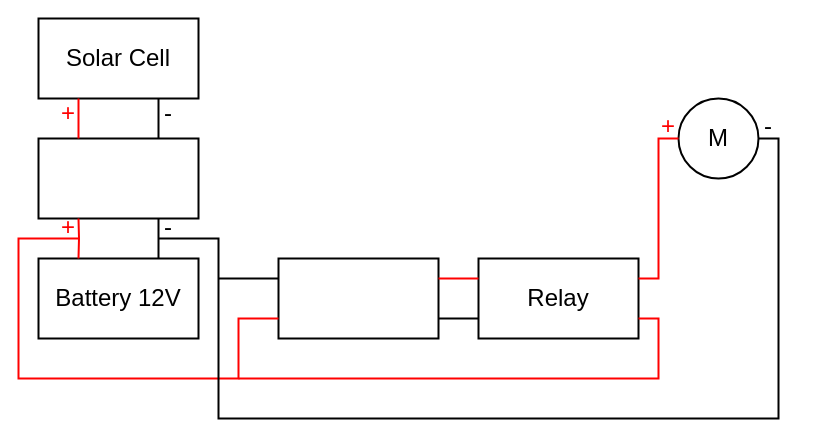
The diagram is 815 pixels wide and 437 high, and some of its shapes have lost their labels. The shapes that lost their labels are listed below. From the top down, each one's centre as x and y in pixels, then its label:
the point at 118,178: Controller
the point at 358,298: Timer
